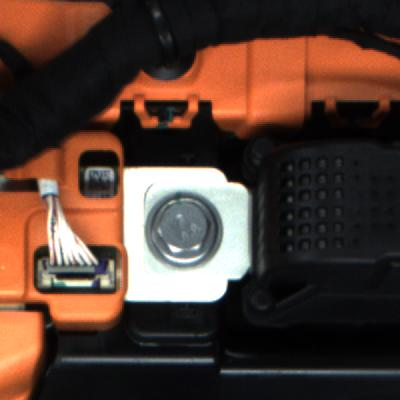nut_b: (138, 184, 249, 272)
